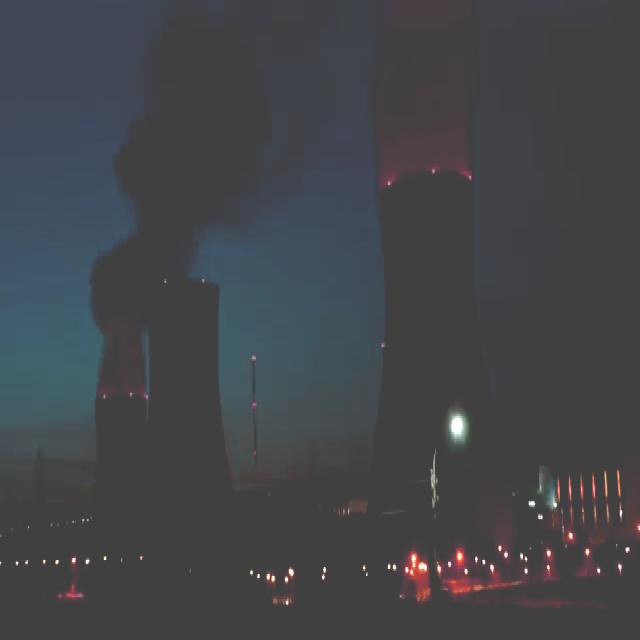smoke: (91, 0, 318, 389), (372, 0, 478, 194)
